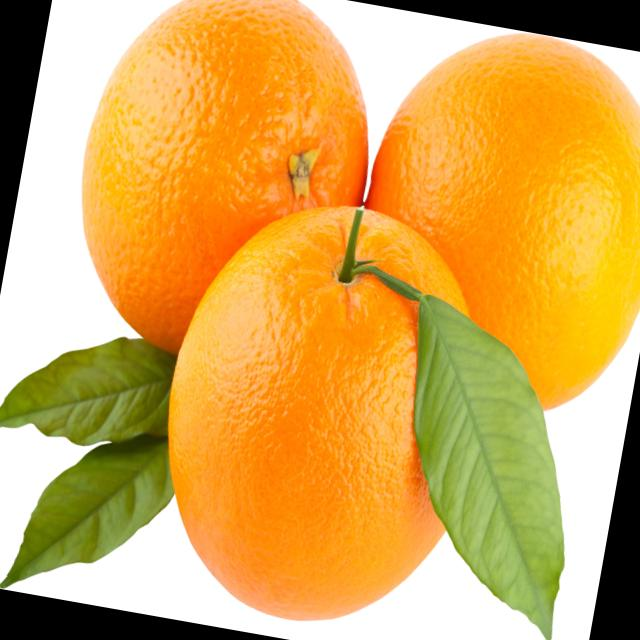orange: (108, 184, 529, 634), (55, 0, 398, 384), (338, 11, 640, 432)
